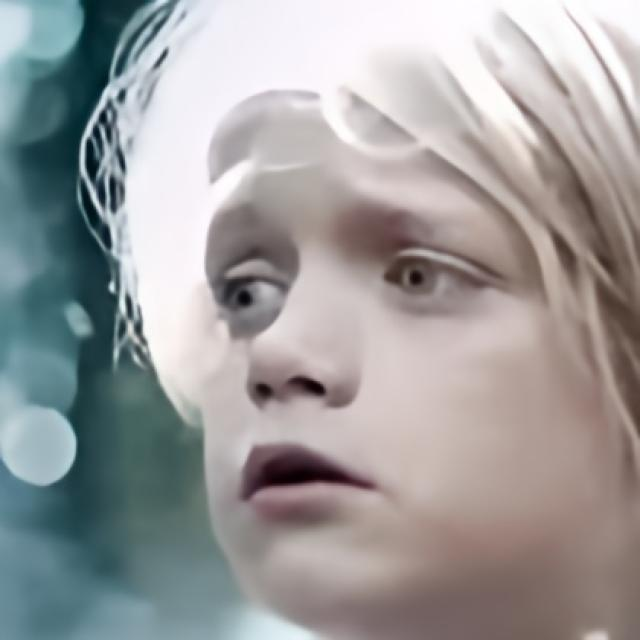sad: (196, 86, 616, 640)
